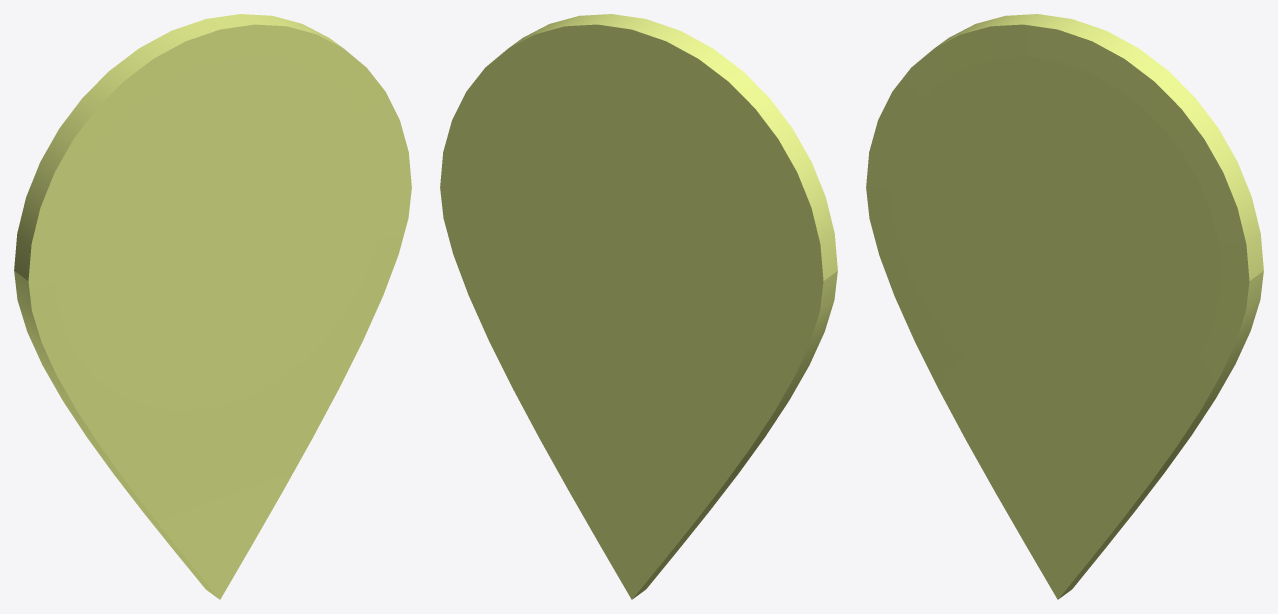
Rendered from signneutral.glb.
3 views of the same model, side by side, from view 1: azimuth 30°, elevation 25°; view 2: azimuth 150°, elevation 25°; view 3: azimuth 330°, elevation 25° (orthographic).
Parts seen in each view (by area): view 1: marker neutral; view 2: marker neutral; view 3: marker neutral.
Boxes of the visible parts, x1,y1,x2,y2 form: marker neutral: (14, 14, 411, 599); marker neutral: (440, 14, 837, 599); marker neutral: (866, 14, 1263, 599).
Bounding box in the file's own units: 1.49 × 2.12 × 0.0979.
